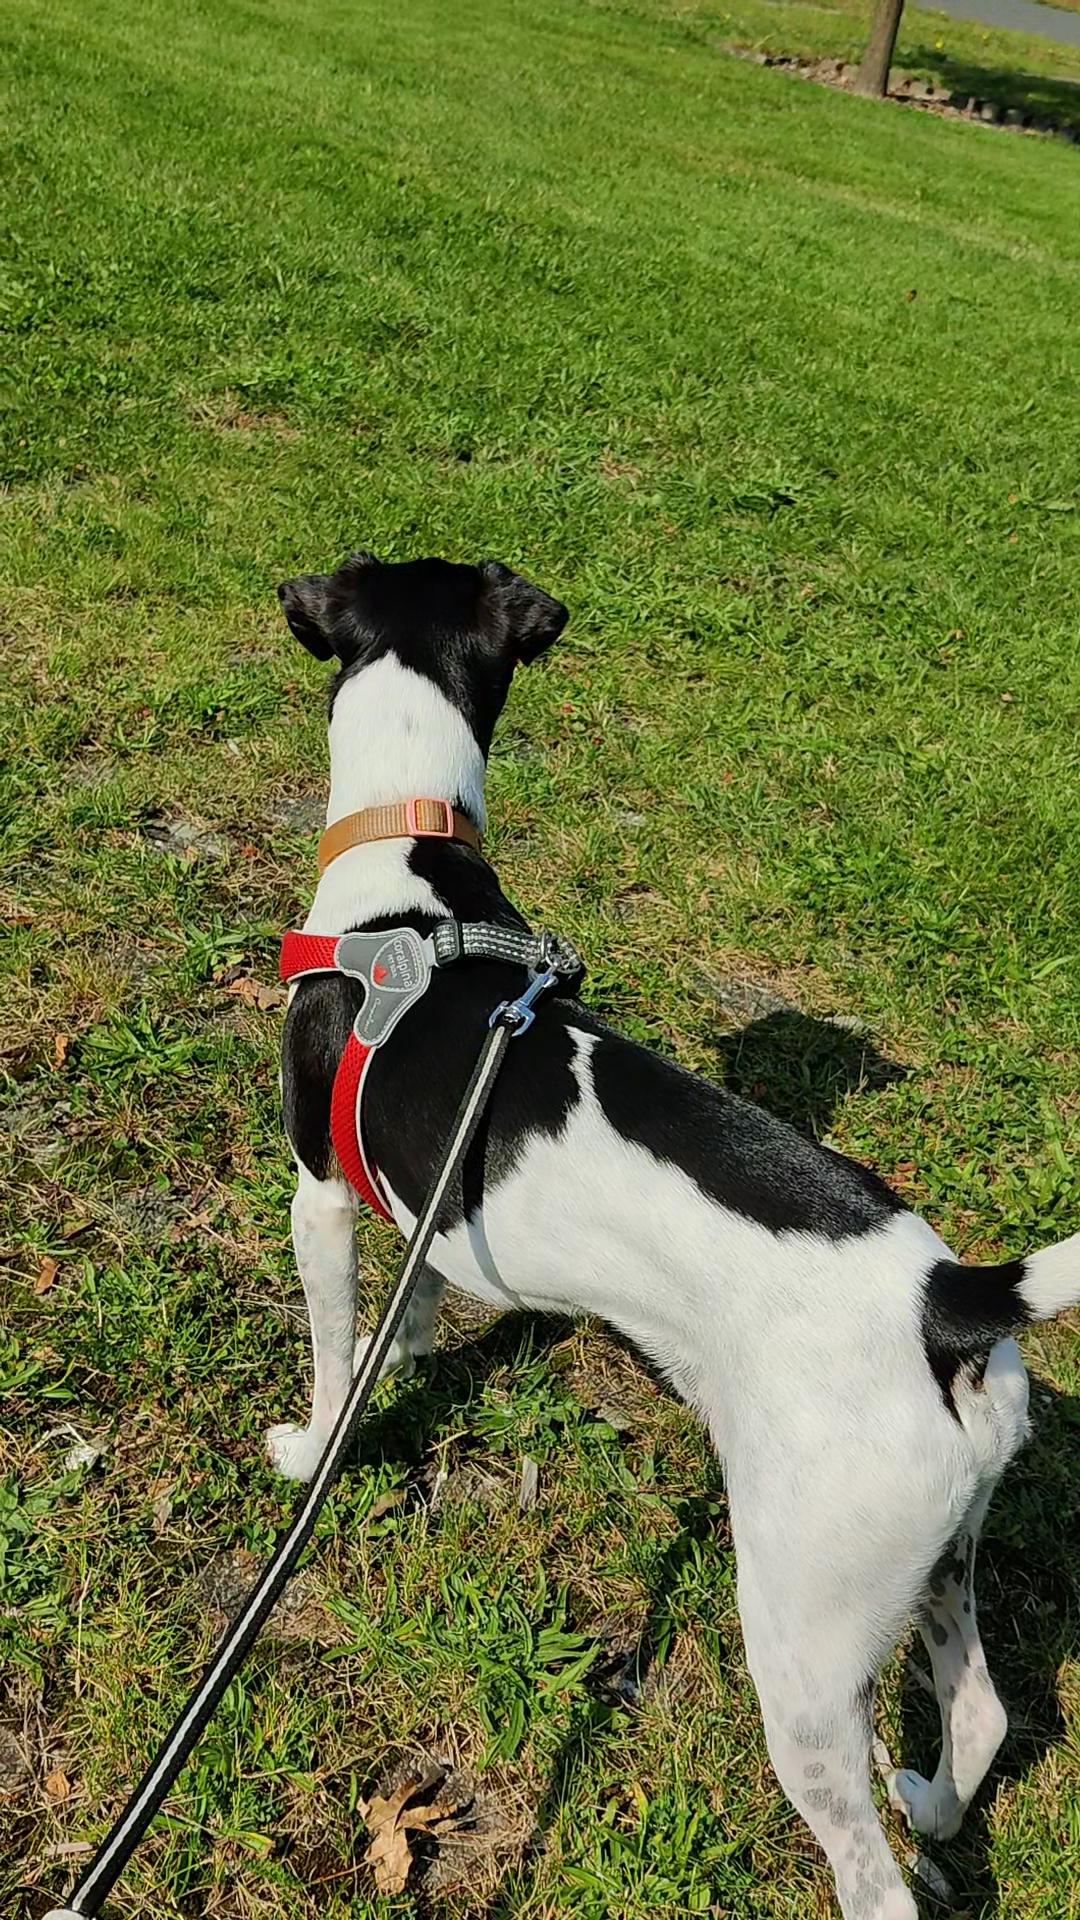Dog: (233, 510, 1079, 1919)
